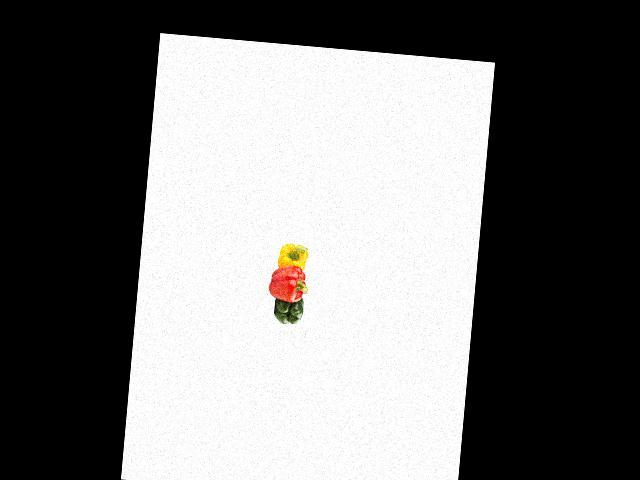bell_pepper: (271, 240, 312, 273)
